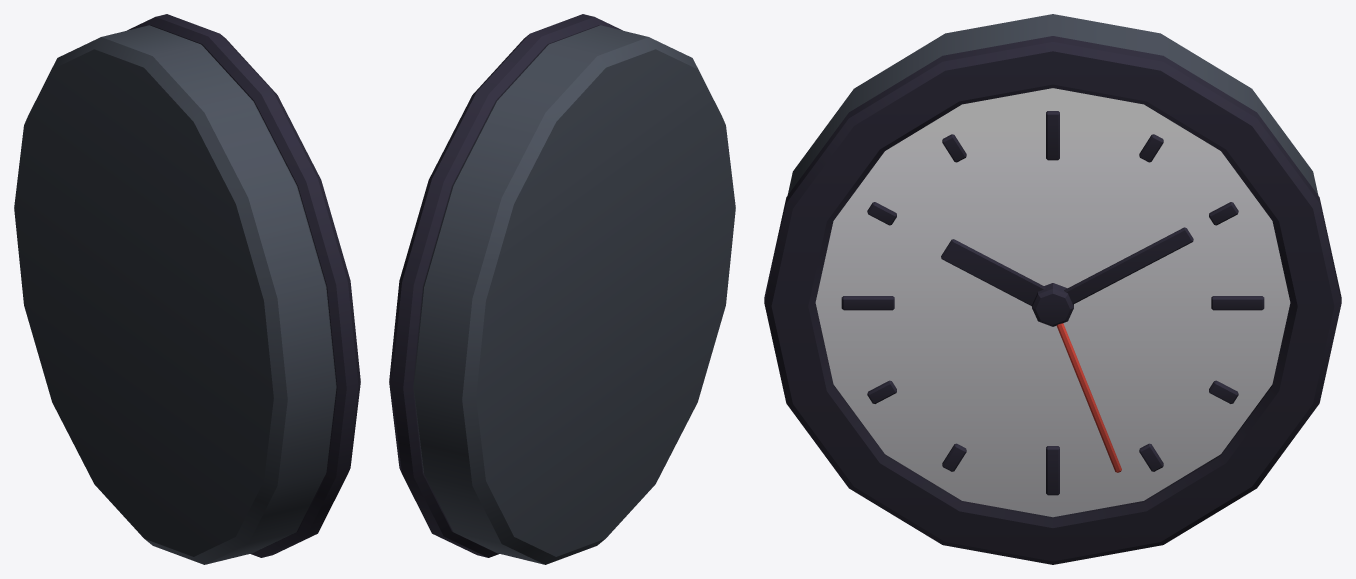
Rendered from Wall_Clock.fbx.
3 renders of one model, left to right at view 1: azimuth 30°, elevation 25°; view 2: azimuth 150°, elevation 25°; view 3: azimuth 270°, elevation 25°, orthographic. The views are drawn at different scales.
Parts seen in each view (by area): view 1: Wall_Clock; view 2: Wall_Clock; view 3: Wall_Clock.
Part boxes in pixels (<box>): Wall_Clock: <box>14,14,360,564</box>; Wall_Clock: <box>389,14,735,564</box>; Wall_Clock: <box>764,14,1341,564</box>.
Bounding box in the file's own units: 0.27 × 1.48 × 1.48.
1 material, 1 textured.
